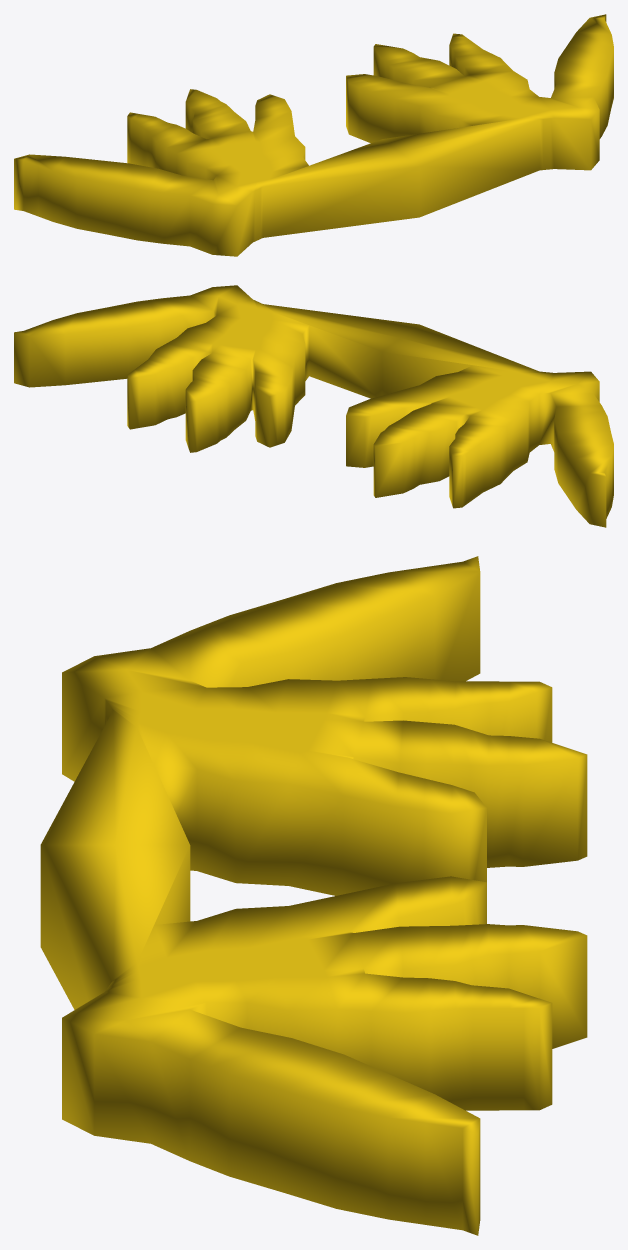
File: fatBodies.glb
The picture shows the model from 3 angles, top to bottom: view 1: azimuth 30°, elevation 25°; view 2: azimuth 150°, elevation 25°; view 3: azimuth 270°, elevation 25°; orthographic projection. The views are drawn at different scales.
Visible parts, largest first — view 1: fatBodies; view 2: fatBodies; view 3: fatBodies.
Boxes of the visible parts, bbox=[...] form: fatBodies: bbox=[14, 14, 613, 256]; fatBodies: bbox=[14, 285, 613, 527]; fatBodies: bbox=[40, 556, 587, 1235].
Size of the model in its own units: 6.93 by 0.5697 by 2.77.
